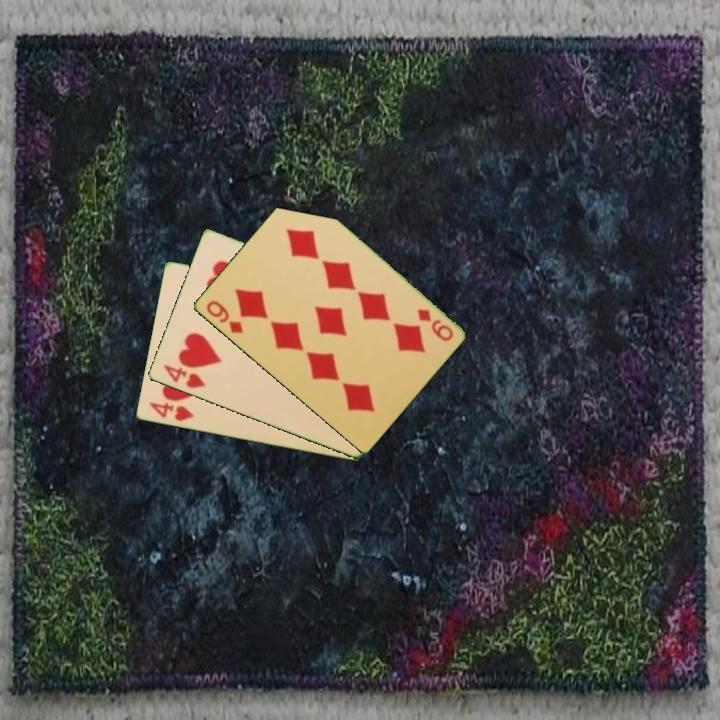4h: (160, 361, 208, 392), (145, 399, 197, 424)
9d: (202, 297, 246, 337), (413, 305, 456, 344)
